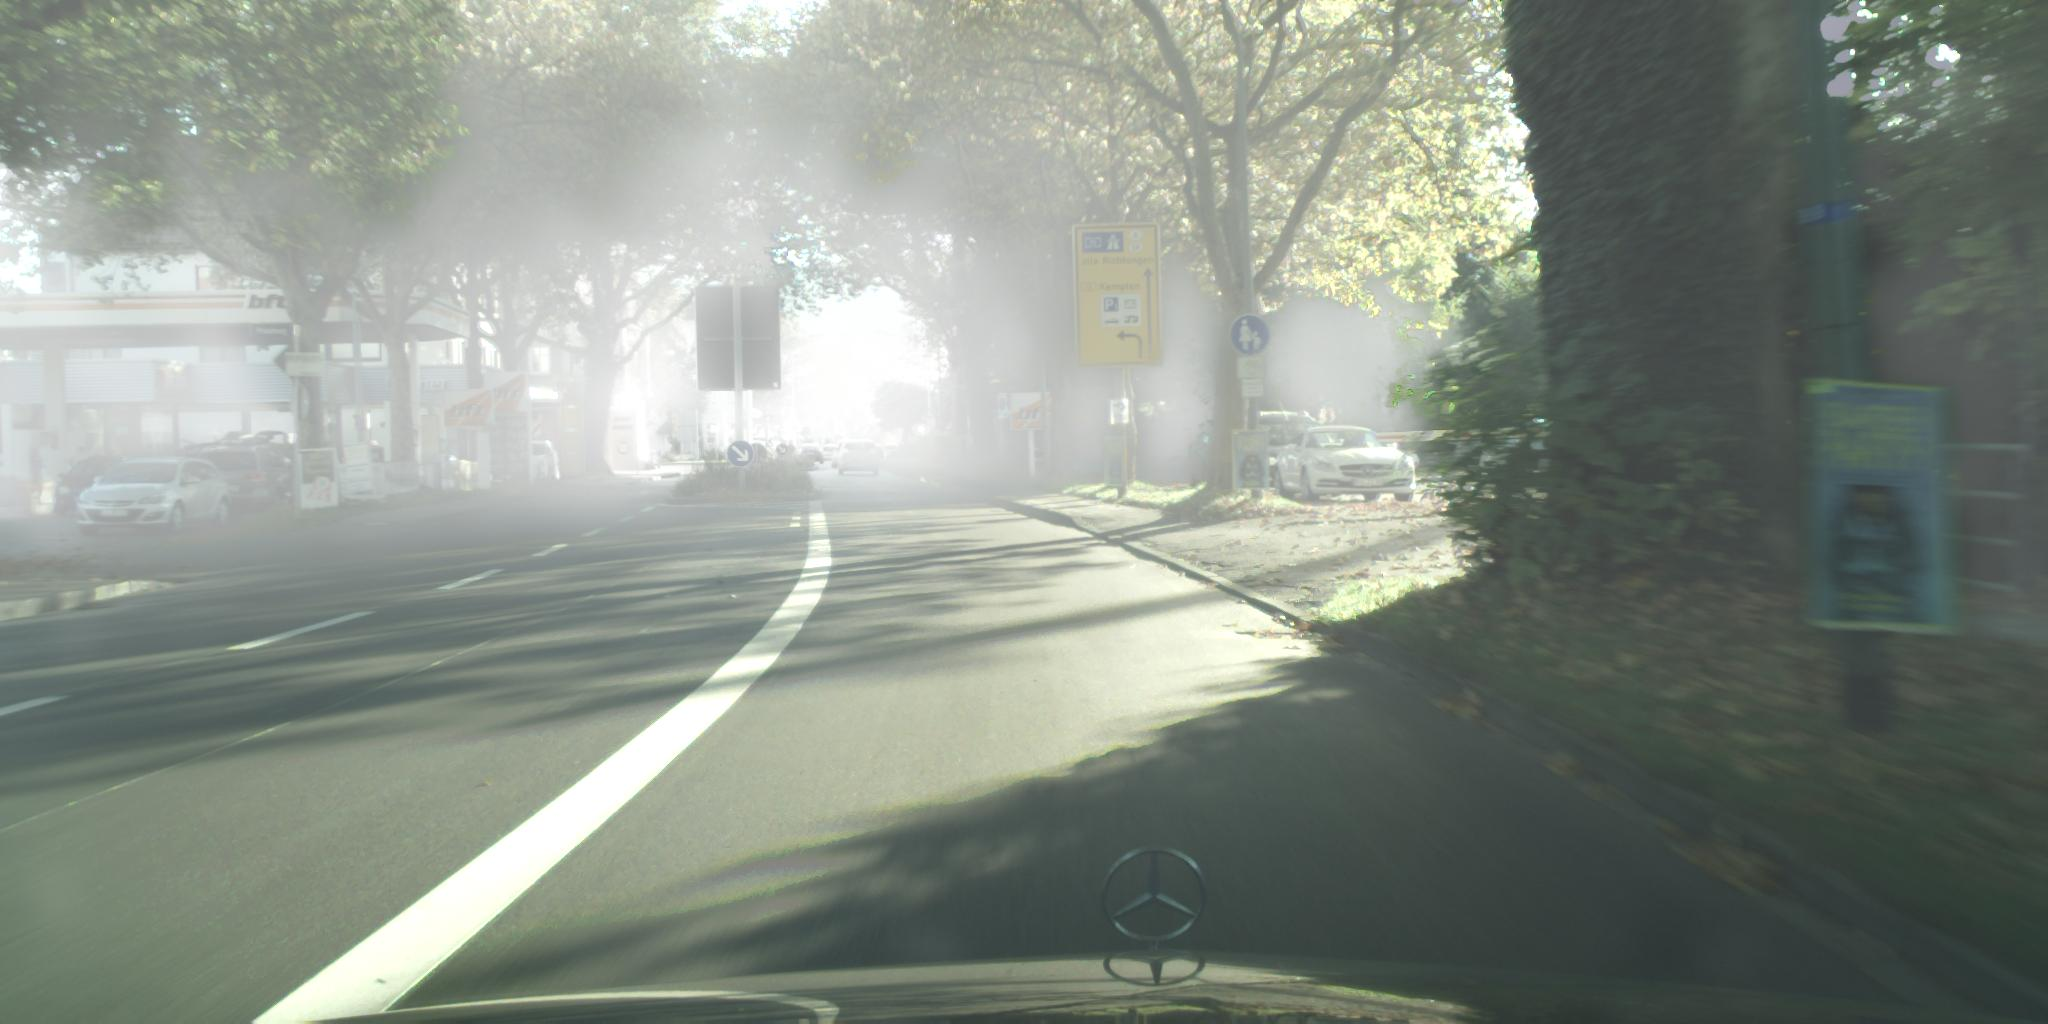car: (73, 456, 234, 538), (1273, 426, 1418, 505), (196, 443, 296, 511), (54, 456, 138, 519), (1259, 410, 1323, 485), (184, 430, 285, 458), (1189, 423, 1213, 488), (839, 440, 882, 477), (831, 440, 858, 469), (802, 443, 824, 465), (884, 443, 901, 458), (822, 444, 839, 460), (876, 444, 886, 458)
